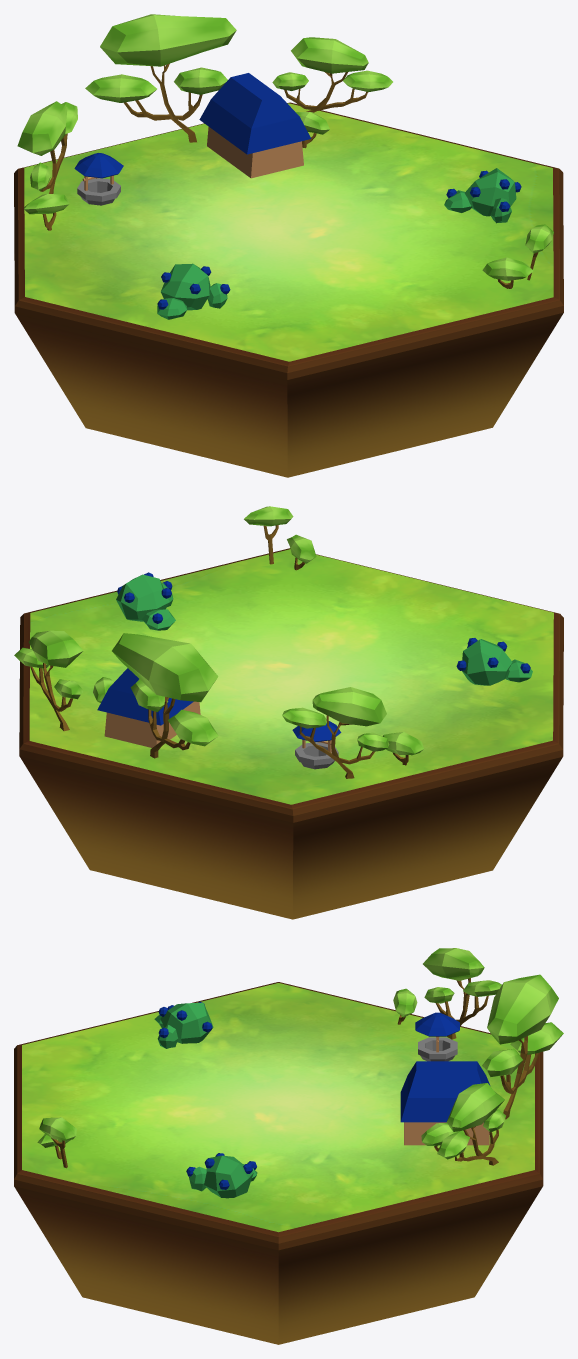
Rendered from Asset_BiomePlain_02.fbx.
The picture shows the model from 3 angles, top to bottom: view 1: azimuth 30°, elevation 25°; view 2: azimuth 150°, elevation 25°; view 3: azimuth 270°, elevation 25°; orthographic projection. The views are drawn at different scales.
Visible parts, largest first — view 1: PolySurface_TilePlain_01, Asset_TreePlain_02, Asset_HousePlain_01, Asset_TreePlain_03, Asset_TreePlain_04, Asset_BerryPlain_02, Bush, Asset_WellPlain_02, Asset_TreePlain_07, Asset_TreePlain_05, Asset_TreePlain_06, Asset_TreePlain_01; view 2: PolySurface_TilePlain_01, Asset_TreePlain_02, Asset_TreePlain_04, Asset_HousePlain_01, Asset_TreePlain_03, Asset_BerryPlain_02, Bush, Asset_WellPlain_02, Asset_TreePlain_06, Asset_TreePlain_05, Asset_TreePlain_07; view 3: PolySurface_TilePlain_01, Asset_TreePlain_02, Asset_HousePlain_01, Asset_TreePlain_03, Asset_TreePlain_04, Asset_BerryPlain_02, Bush, Asset_WellPlain_02, Asset_TreePlain_06, Asset_TreePlain_05, Asset_TreePlain_01.
Part boxes in pixels (<box>): PolySurface_TilePlain_01: <box>14,102,563,477</box>; Asset_TreePlain_02: <box>85,14,236,142</box>; Asset_HousePlain_01: <box>199,73,311,178</box>; Asset_TreePlain_03: <box>272,37,392,112</box>; Asset_TreePlain_04: <box>17,101,77,193</box>; Asset_BerryPlain_02: <box>444,168,521,223</box>; Bush: <box>157,263,227,319</box>; Asset_WellPlain_02: <box>74,153,123,205</box>; Asset_TreePlain_07: <box>482,257,533,288</box>; Asset_TreePlain_05: <box>24,194,69,230</box>; Asset_TreePlain_06: <box>525,224,553,280</box>; Asset_TreePlain_01: <box>295,112,329,148</box>; PolySurface_TilePlain_01: <box>19,548,563,919</box>; Asset_TreePlain_02: <box>112,633,218,758</box>; Asset_TreePlain_04: <box>282,687,389,778</box>; Asset_HousePlain_01: <box>97,668,200,747</box>; Asset_TreePlain_03: <box>14,630,83,731</box>; Asset_BerryPlain_02: <box>116,572,175,630</box>; Bush: <box>462,639,532,685</box>; Asset_WellPlain_02: <box>292,721,341,769</box>; Asset_TreePlain_06: <box>244,506,293,564</box>; Asset_TreePlain_05: <box>383,732,423,765</box>; Asset_TreePlain_07: <box>287,534,316,570</box>; PolySurface_TilePlain_01: <box>14,982,543,1344</box>; Asset_TreePlain_02: <box>482,974,563,1119</box>; Asset_HousePlain_01: <box>400,1061,490,1145</box>; Asset_TreePlain_03: <box>437,1083,505,1165</box>; Asset_TreePlain_04: <box>423,948,501,1039</box>; Asset_BerryPlain_02: <box>186,1153,257,1198</box>; Bush: <box>154,1003,213,1048</box>; Asset_WellPlain_02: <box>415,1012,459,1061</box>; Asset_TreePlain_06: <box>39,1117,76,1168</box>; Asset_TreePlain_05: <box>393,988,417,1024</box>; Asset_TreePlain_01: <box>421,1122,464,1151</box>.
Size of the model in its own units: 4.36 by 2.06 by 3.91.
